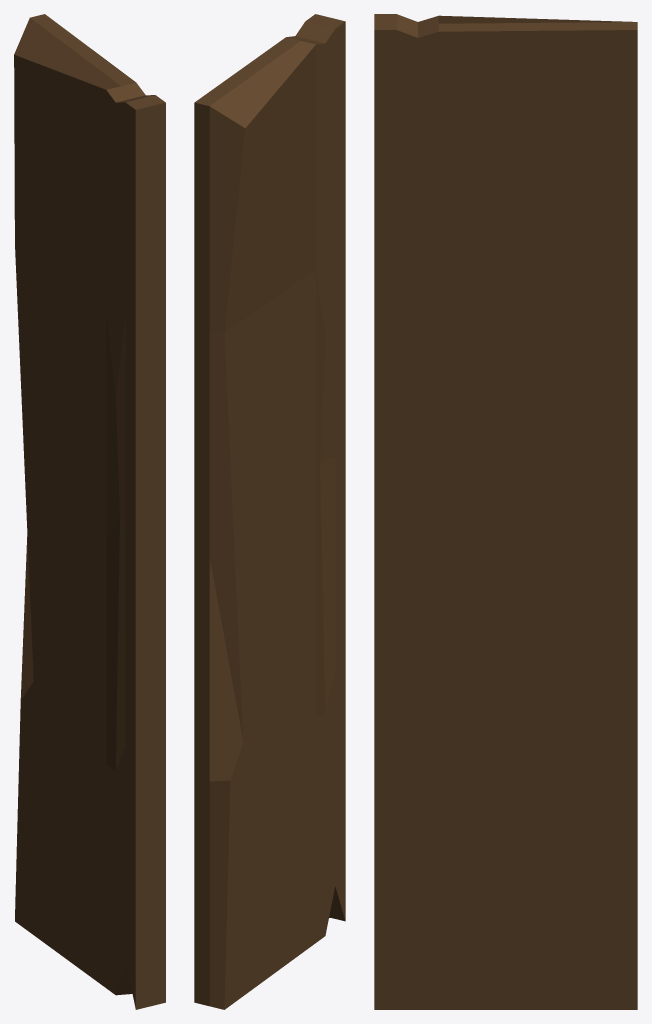
File: wood plank.fbx
The picture shows the model from 3 angles, left to right: view 1: azimuth 30°, elevation 25°; view 2: azimuth 150°, elevation 25°; view 3: azimuth 270°, elevation 25°; orthographic projection. The views are drawn at different scales.
Visible parts, largest first — view 1: Cube; view 2: Cube; view 3: Cube.
Part boxes in pixels (bbox=[...]): Cube: bbox=[14, 14, 165, 1009]; Cube: bbox=[194, 14, 345, 1009]; Cube: bbox=[374, 14, 637, 1009].
Size of the model in its own units: 39.01 by 821 by 200.
